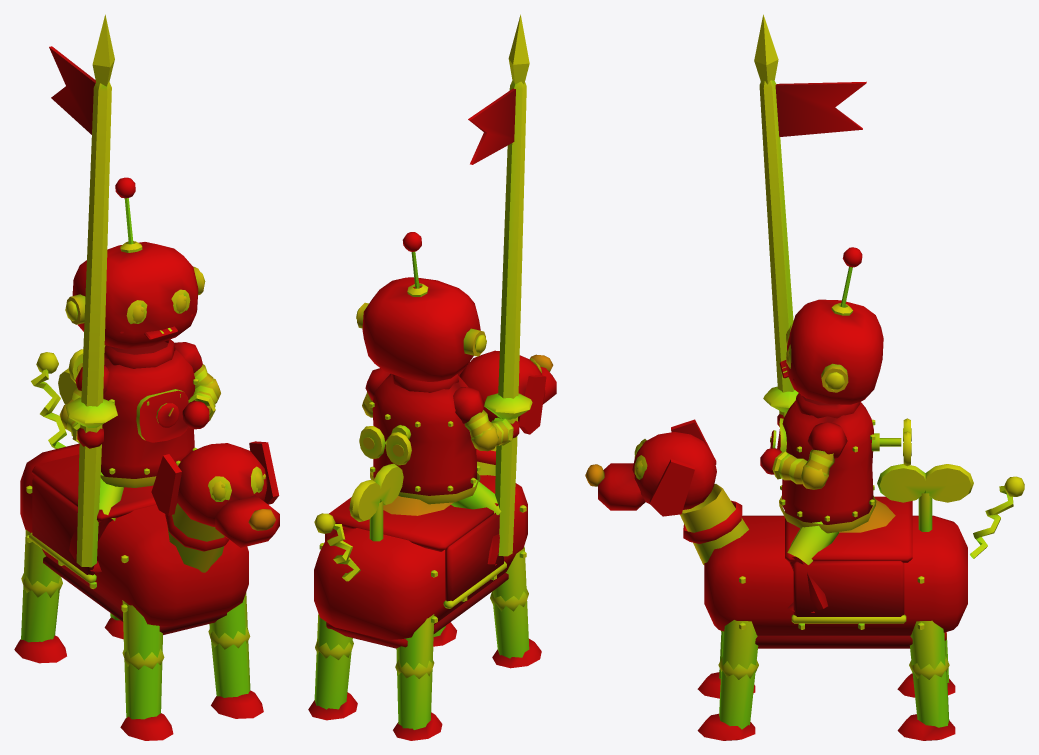
The model's file is RobotHoundRider.glb.
The picture shows the model from 3 angles, left to right: view 1: azimuth 30°, elevation 25°; view 2: azimuth 150°, elevation 25°; view 3: azimuth 270°, elevation 25°; orthographic projection. The views are drawn at different scales.
Parts seen in each view (by area): view 1: RobotHoundRider; view 2: RobotHoundRider; view 3: RobotHoundRider.
Boxes of the visible parts, box(x1,y1,x2,y2) form: RobotHoundRider: box(14, 14, 279, 740); RobotHoundRider: box(308, 14, 556, 740); RobotHoundRider: box(585, 14, 1024, 740).
Bounding box in the file's own units: 0.526 × 2.17 × 1.29.
